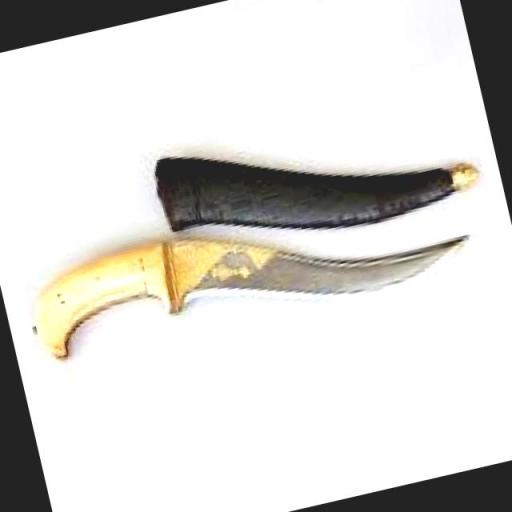knife: (0, 110, 512, 429)
